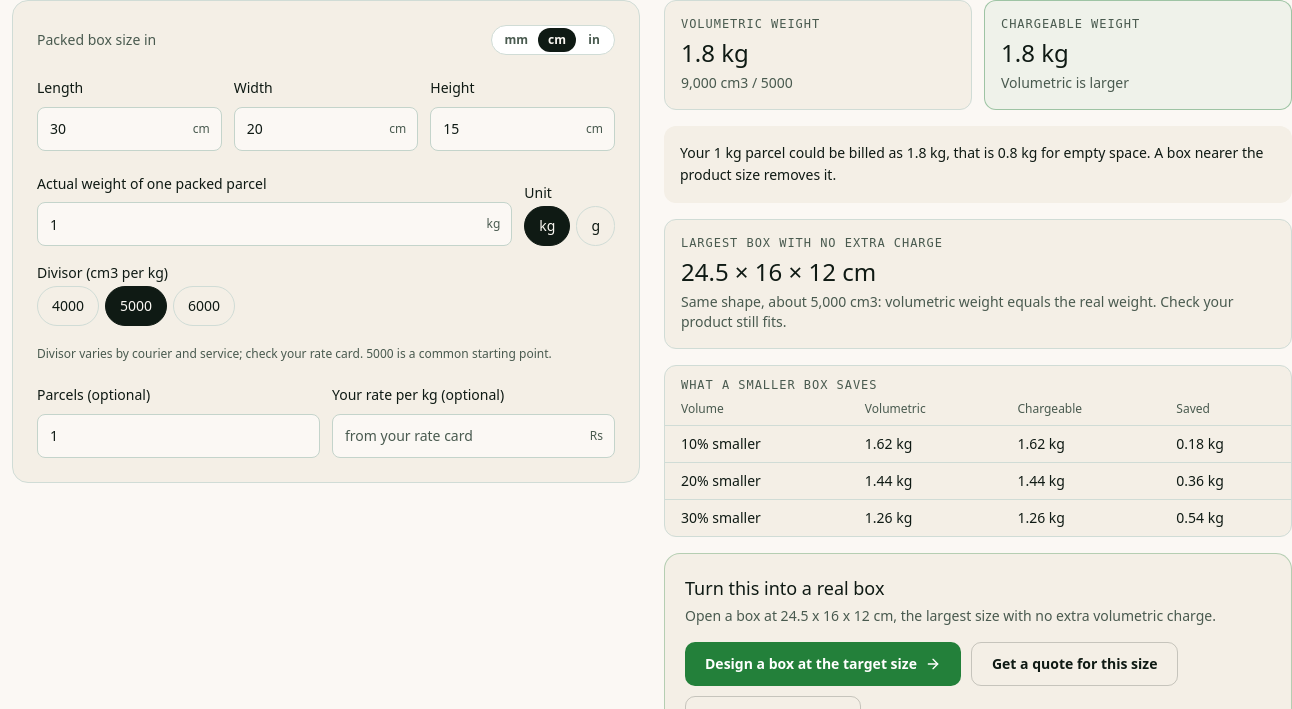
Test case: calculators › volumetric: a bad size shows the empty state and no hand-off size
The width and height of the screenshot is (1292, 709).
Replace the text in the field labelled "Height" with "abc" at (523, 129), box x1=430 y1=107 x2=615 y2=151
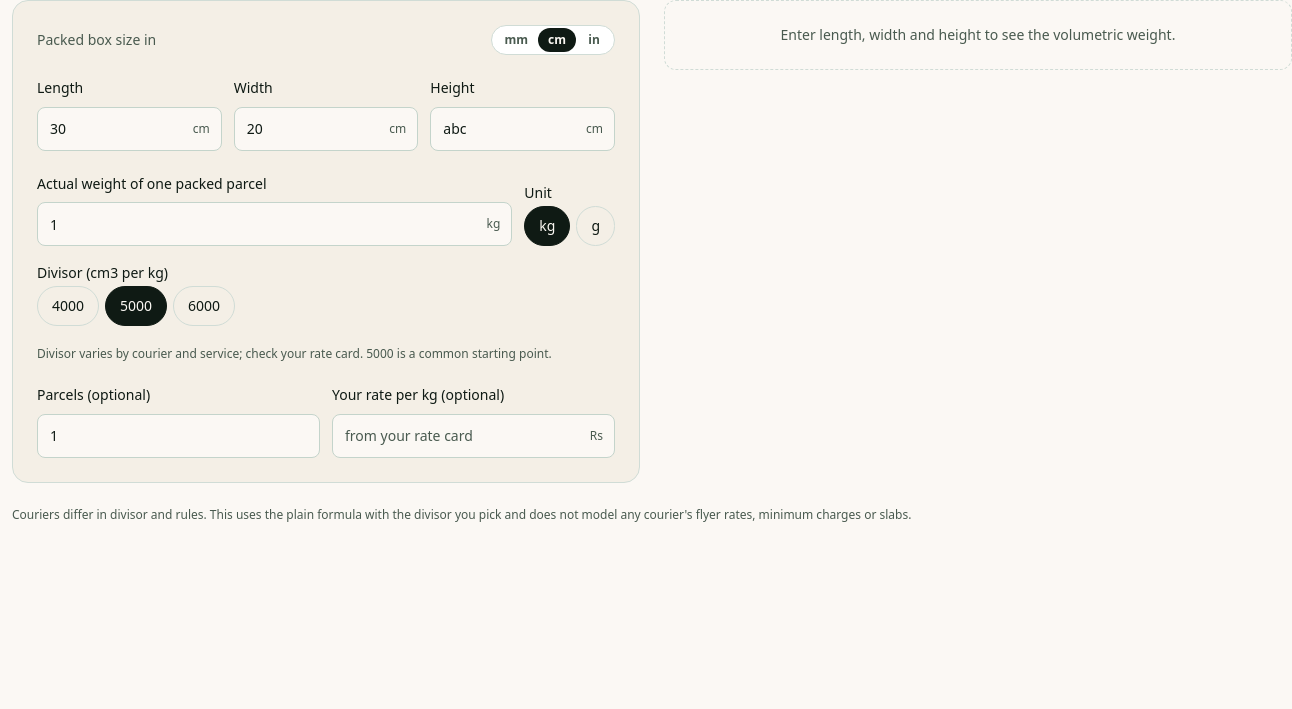
Check: the text "Enter length, width and height to see the volumetric weight." is shown, box x1=664 y1=0 x2=1291 y2=70
